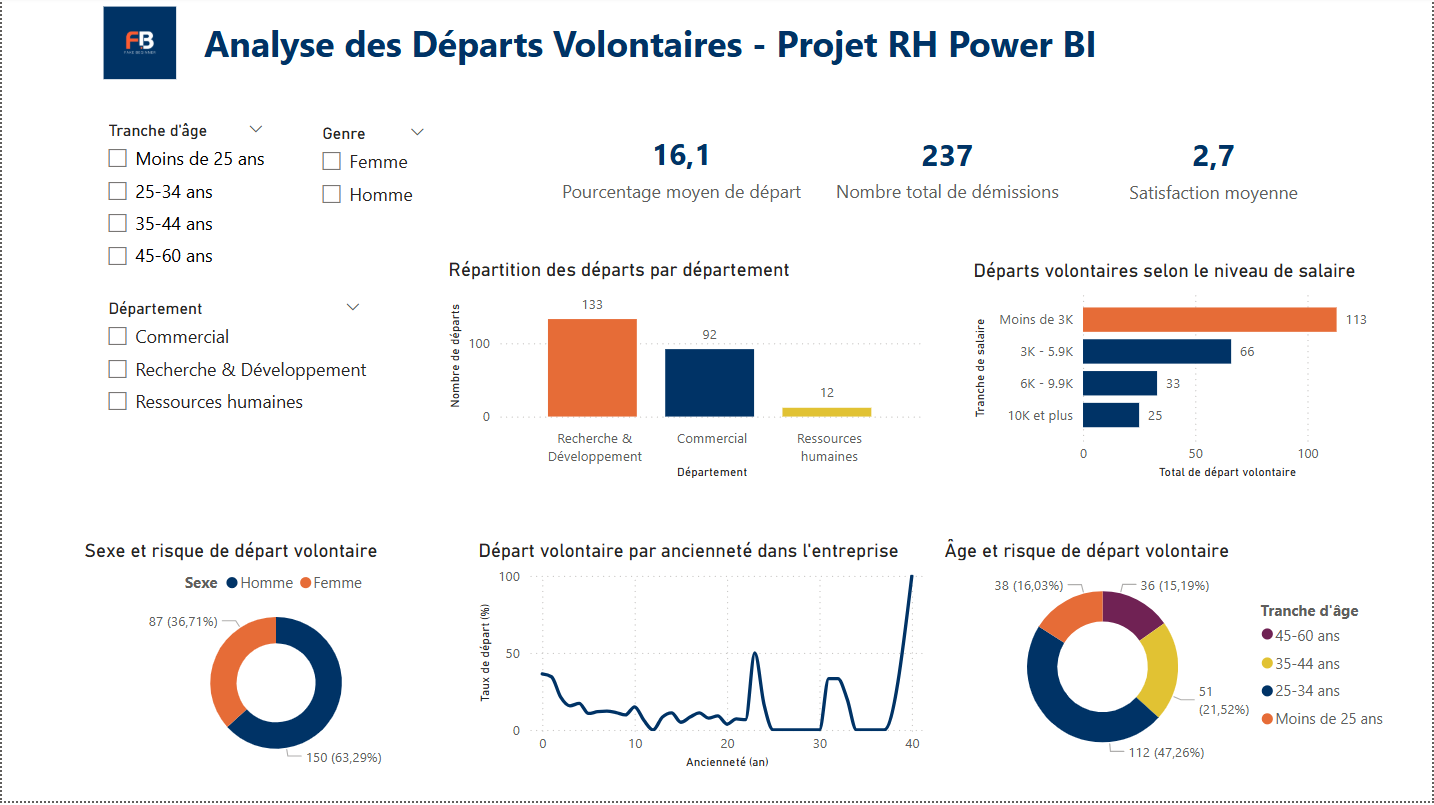

The dashboard page shown, as its layout file describes it:
{"tool":"powerbi","page":{"name":"Analyse de turnover","canvas":[1280,720],"ordinal":0},"visuals":[{"type":"card","title":"Taux de Turnover (%)","fields":{"Values":["attrition.Turnover Rate"]},"box":[488,94,241,116],"z":0},{"type":"card","title":"Employés partis","fields":{"Values":["attrition.Employees Left"]},"box":[737,94,219,117],"z":1000},{"type":"card","title":"Satisfaction (1-4)","fields":{"Values":["attrition.Avg Satisfaction"]},"box":[956,95,257,116],"z":2000},{"type":"lineChart","title":"Départ volontaire par ancienneté dans l''entreprise","fields":{"Category":["attrition.YearsAtCompany"],"Y":["attrition.Turnover Rate"]},"box":[422,485,408,210],"z":3000},{"type":"columnChart","title":"Répartition des départs par département","fields":{"Category":["attrition.Département"],"Y":["attrition.Nombre de départs"]},"box":[395,234,435,202],"z":4000},{"type":"textbox","box":[171,13,819,58],"z":5000},{"type":"barChart","title":"Départs volontaires selon le niveau de salaire","fields":{"Category":["attrition.TrancheSalaire"],"Y":["Sum(attrition.Départ volontaire (binaire))"]},"box":[865,235,377,201],"z":6000},{"type":"slicer","fields":{"Values":["attrition.Tranche d'âge"]},"box":[82,107,164,149],"z":7000},{"type":"slicer","fields":{"Values":["attrition.Gender"]},"box":[274,109,117,86],"z":8000},{"type":"image","box":[69,4,109,75],"z":9000},{"type":"donutChart","title":"Âge et risque de départ volontaire","fields":{"Y":["Sum(attrition.Turnover)"],"Category":["attrition.TrancheAge"]},"box":[839,485,412,210],"z":10000},{"type":"donutChart","title":"Sexe et risque de départ volontaire","fields":{"Y":["Sum(attrition.Turnover)"],"Category":["attrition.Sexe"]},"box":[69,485,353,210],"z":11000},{"type":"slicer","fields":{"Values":["attrition.Département"]},"box":[82,266,251,120],"z":12000}]}

Visuals, with their boxes in screenshot pixels (x1, y1, x2, y2), scaled from the page's 1280x720 canvas onto the 1434x805 screenshot:
"Taux de Turnover (%)" card: (x1=547, y1=105, x2=817, y2=235)
"Employés partis" card: (x1=826, y1=105, x2=1071, y2=236)
"Satisfaction (1-4)" card: (x1=1071, y1=106, x2=1359, y2=236)
"Départ volontaire par ancienneté dans l''entreprise" lineChart: (x1=473, y1=542, x2=930, y2=777)
"Répartition des départs par département" columnChart: (x1=443, y1=262, x2=930, y2=487)
textbox: (x1=192, y1=15, x2=1109, y2=79)
"Départs volontaires selon le niveau de salaire" barChart: (x1=969, y1=263, x2=1391, y2=487)
slicer - attrition.Tranche d'âge: (x1=92, y1=120, x2=276, y2=286)
slicer - attrition.Gender: (x1=307, y1=122, x2=438, y2=218)
image: (x1=77, y1=4, x2=199, y2=88)
"Âge et risque de départ volontaire" donutChart: (x1=940, y1=542, x2=1402, y2=777)
"Sexe et risque de départ volontaire" donutChart: (x1=77, y1=542, x2=473, y2=777)
slicer - attrition.Département: (x1=92, y1=297, x2=373, y2=432)
